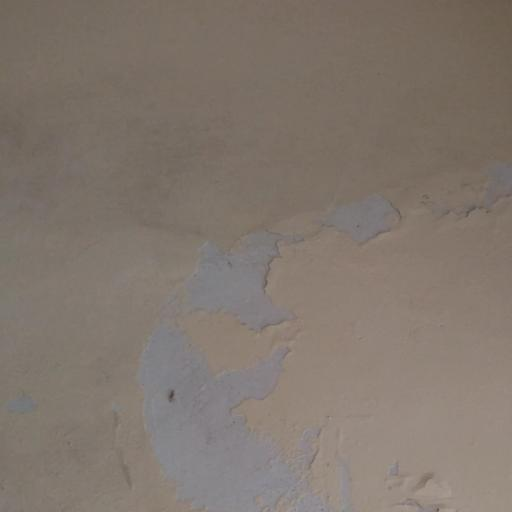peeling: (92, 145, 512, 512)
